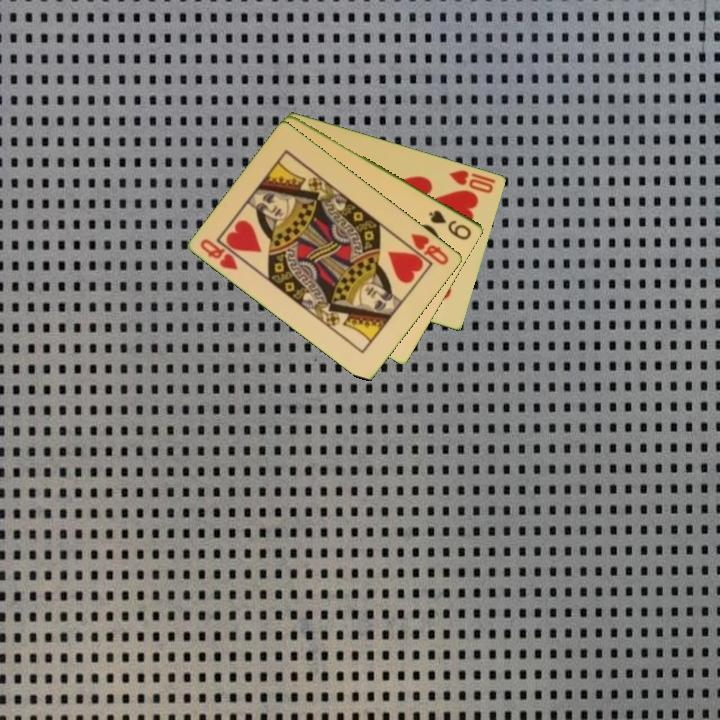10h: (445, 166, 497, 196)
9s: (426, 206, 475, 243)
Qh: (408, 230, 452, 268), (197, 235, 241, 273)
